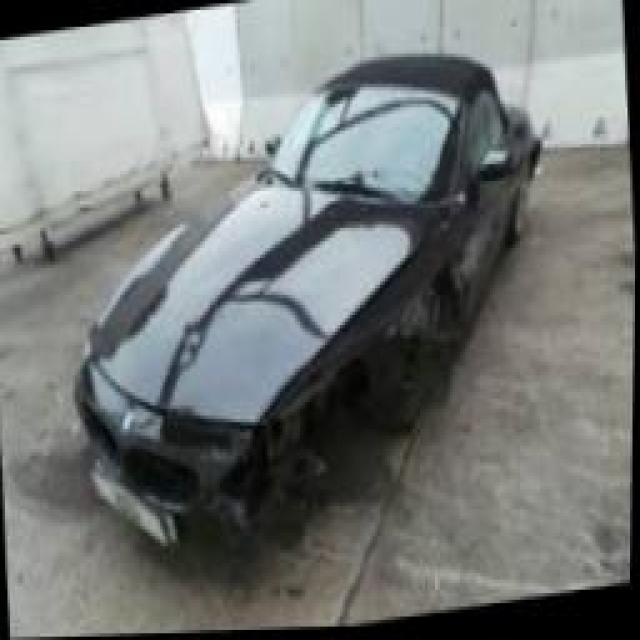Bumper: (83, 398, 294, 544)
Fender: (258, 208, 471, 519)
